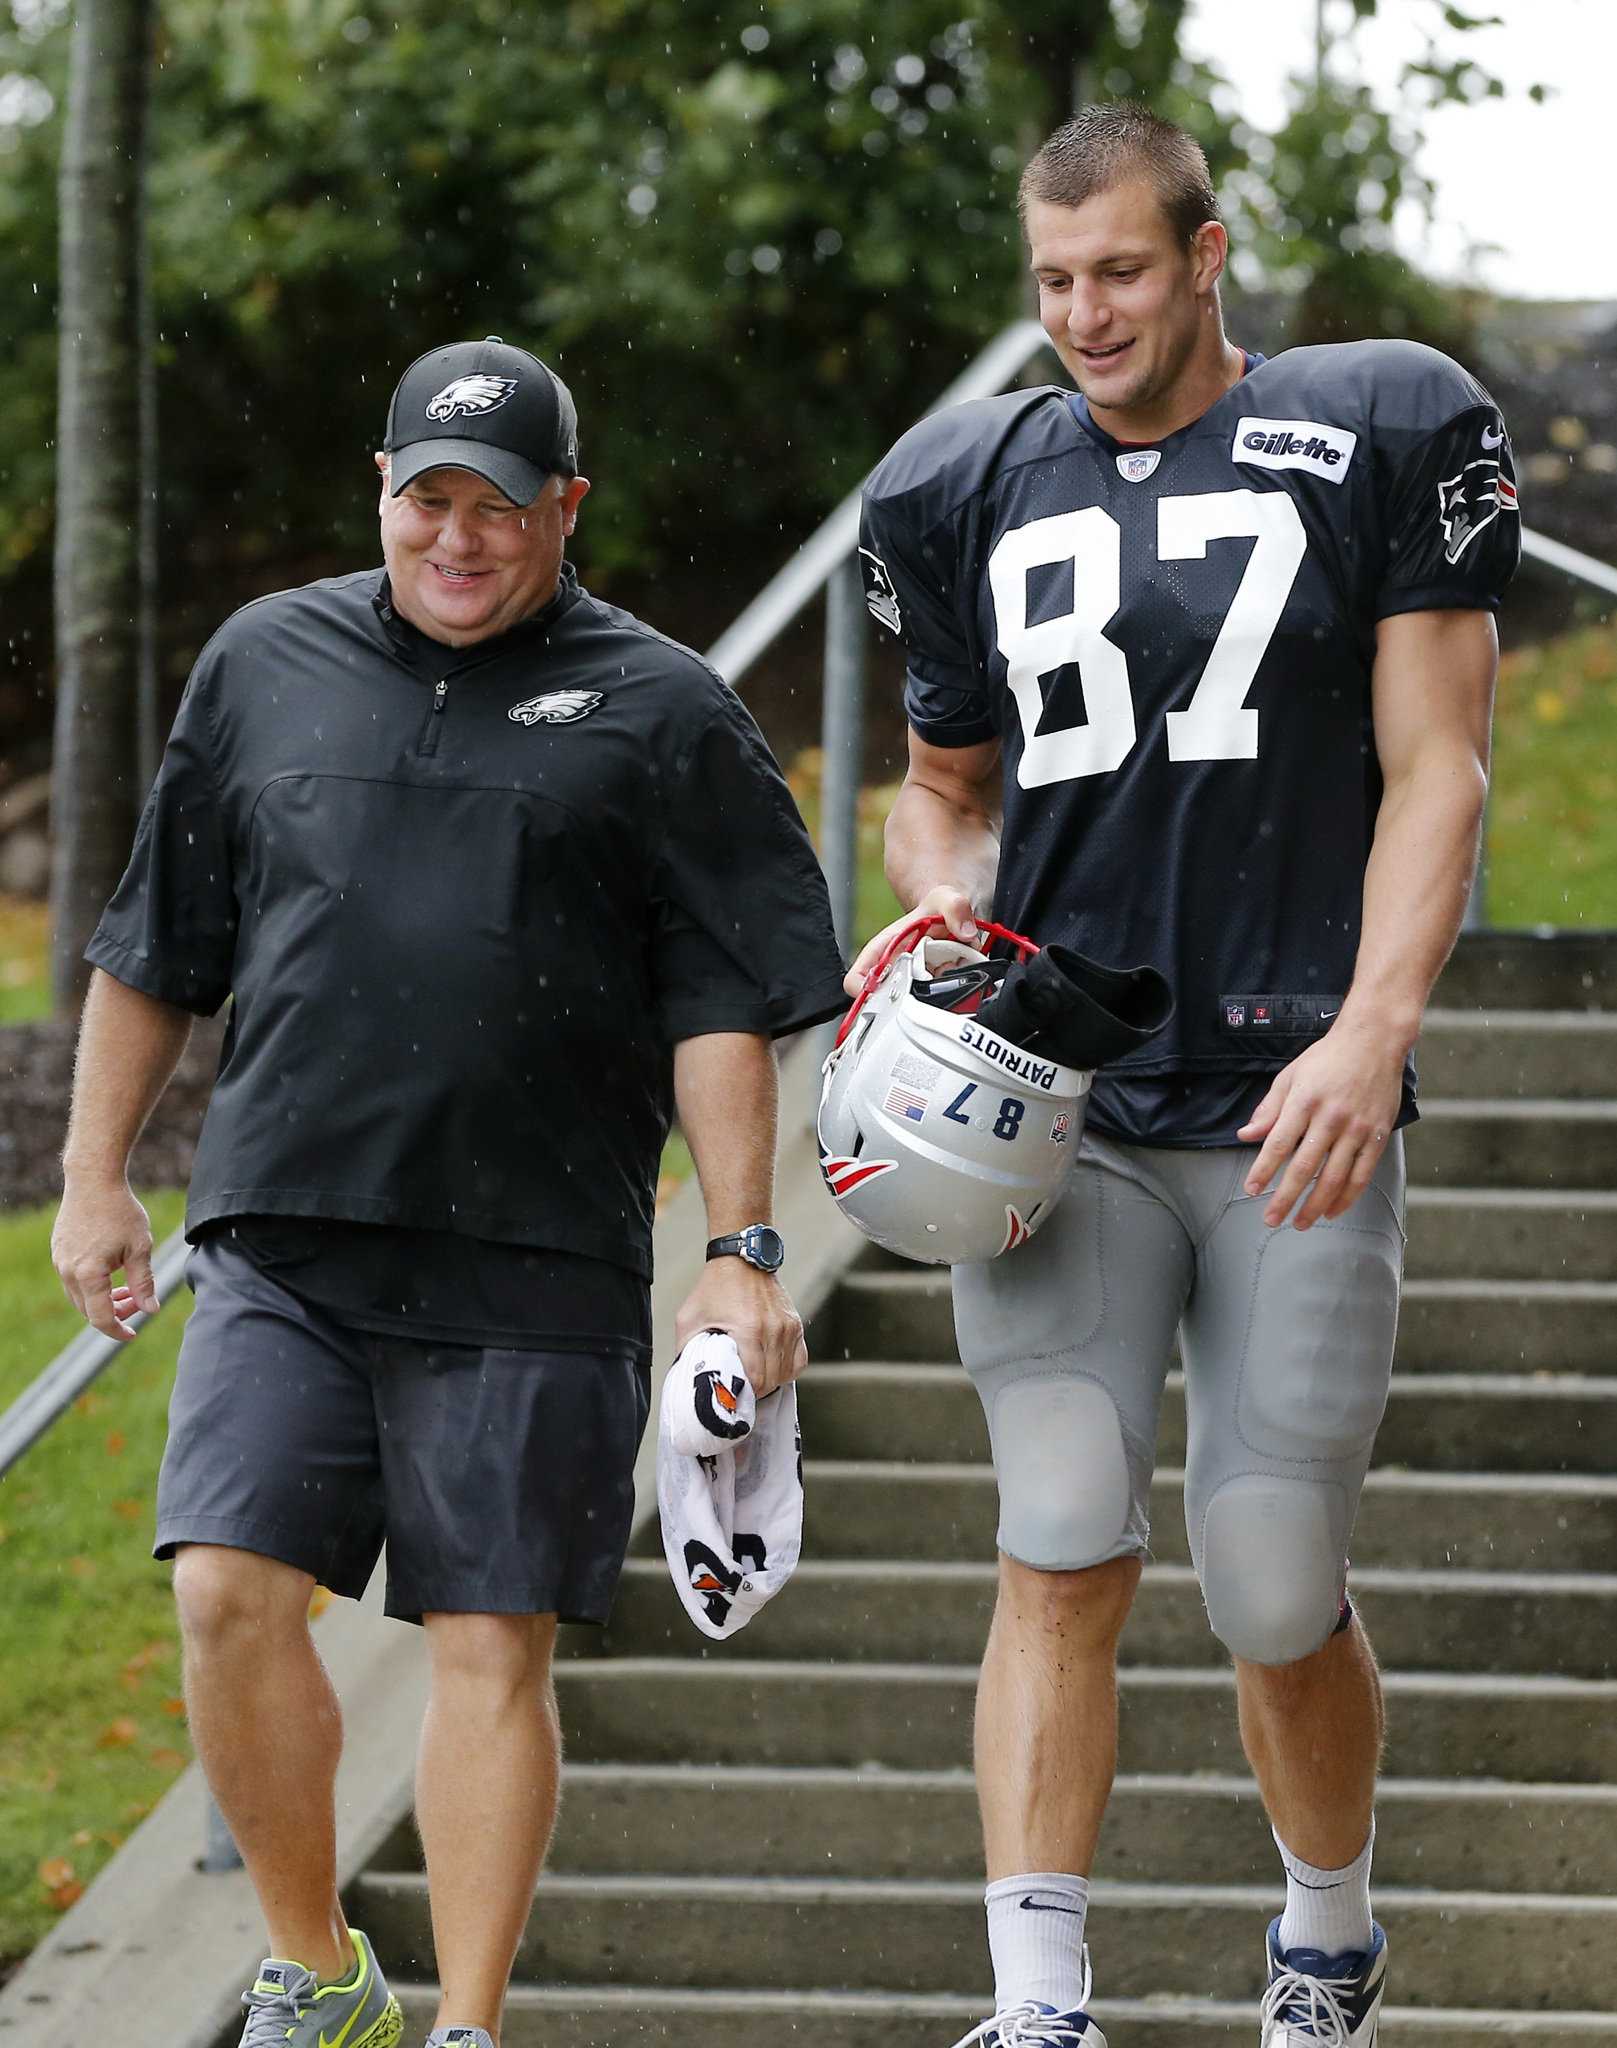Person: (53, 340, 842, 2048), (837, 102, 1524, 2048)
